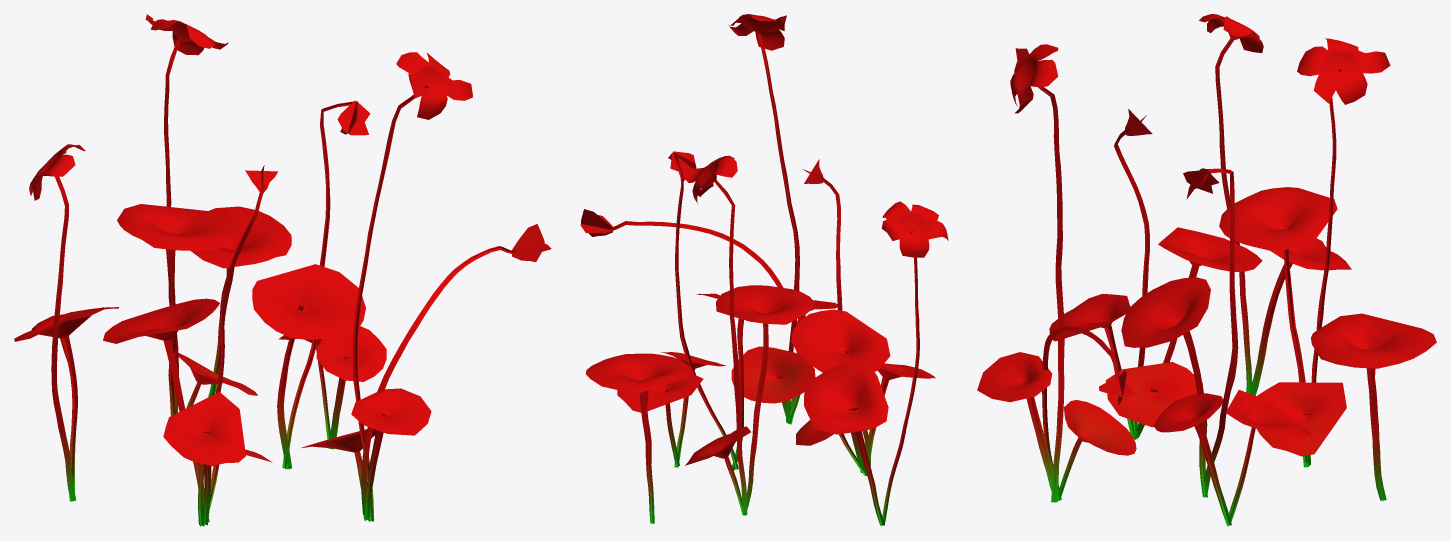
The model's file is Native Violet_LOD1_Var20_ultkcfeja.fbx.
The picture shows the model from 3 angles, left to right: view 1: azimuth 30°, elevation 25°; view 2: azimuth 150°, elevation 25°; view 3: azimuth 270°, elevation 25°; orthographic projection. The views are drawn at different scales.
Visible parts, largest first — view 1: _58nb_Var20_LOD1; view 2: _58nb_Var20_LOD1; view 3: _58nb_Var20_LOD1.
Boxes of the visible parts, x1,y1,x2,y2 form: _58nb_Var20_LOD1: [14, 14, 551, 526]; _58nb_Var20_LOD1: [580, 14, 948, 526]; _58nb_Var20_LOD1: [977, 14, 1436, 526].
Size of the model in its own units: 25.64 by 24.12 by 21.21.
